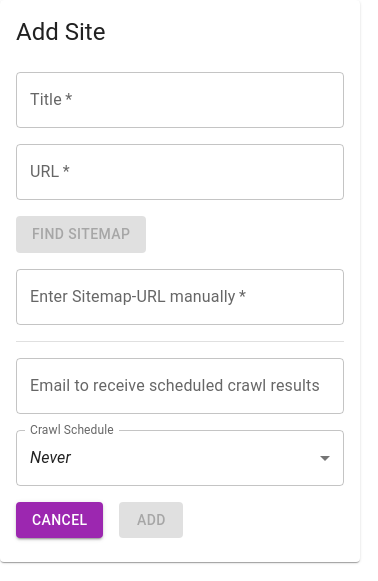
Scenario: SiteForm Component › enables Find Sitemap button if URL is provided
Type "https://newsite.com" into the field labelled "URL *" at (180, 172), box 16,144 -> 344,200
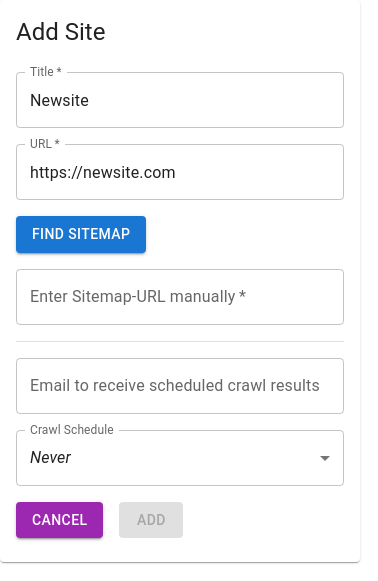
Check: the button "Find Sitemap" is enabled, box 16,216 -> 146,252
